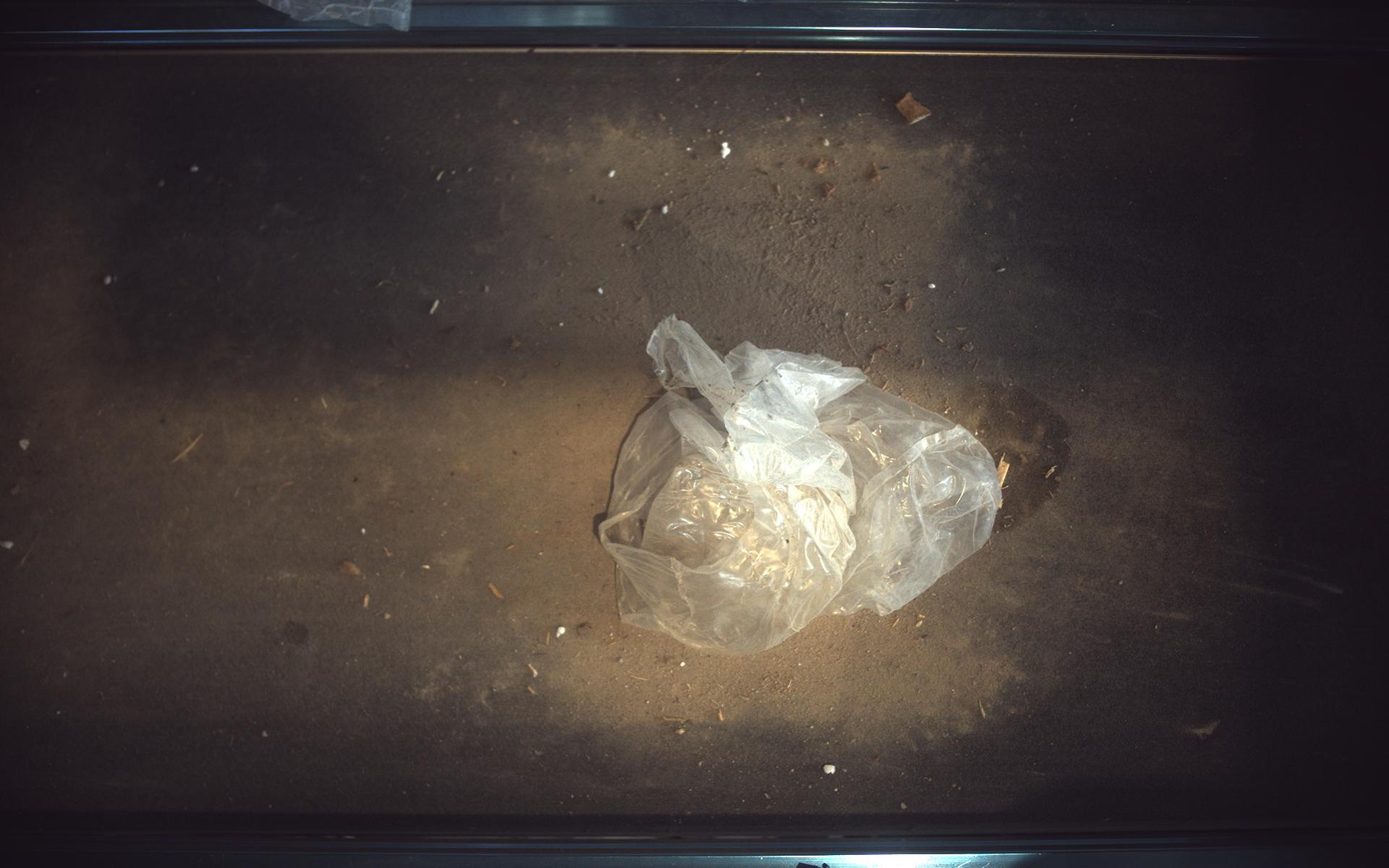general_w: (600, 316, 1002, 655)
